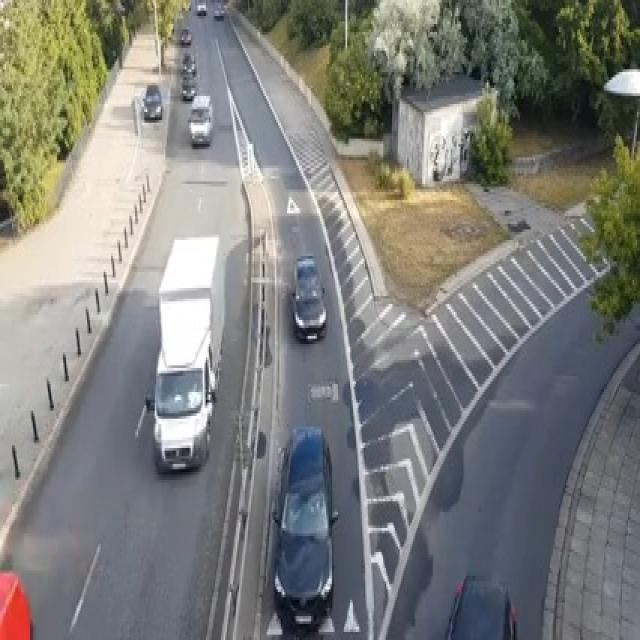car: (270, 424, 338, 629), (445, 574, 517, 638), (290, 254, 326, 342), (0, 568, 32, 637), (188, 93, 213, 147), (143, 83, 162, 120), (180, 74, 196, 98), (182, 50, 195, 74), (213, 2, 224, 18), (180, 27, 191, 42), (195, 0, 205, 13)
truck: (144, 232, 224, 472)
